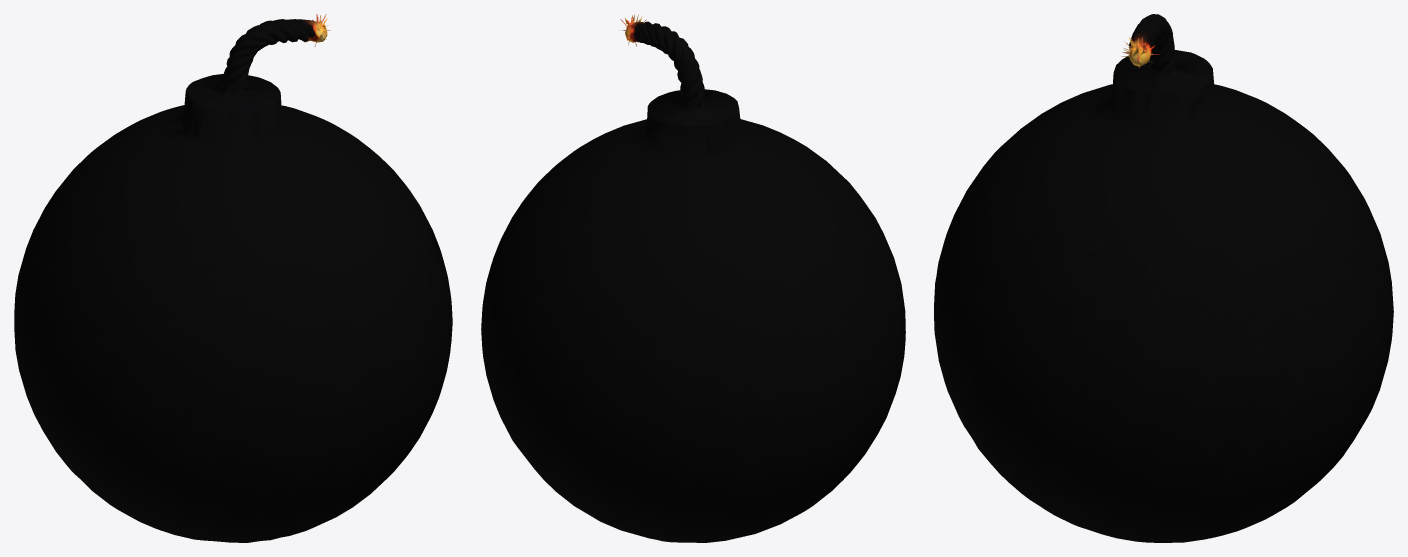
Rendered from bomb.glb.
3 renders of one model, left to right at view 1: azimuth 30°, elevation 25°; view 2: azimuth 150°, elevation 25°; view 3: azimuth 270°, elevation 25°, orthographic. The views are drawn at different scales.
Visible parts, largest first — view 1: material; view 2: material; view 3: material.
Boxes of the visible parts, left/top/right/bottom form: material: left=14, top=14, right=452, bottom=542; material: left=481, top=14, right=905, bottom=542; material: left=934, top=14, right=1393, bottom=542.
Size of the model in its own units: 0.9086 by 1.14 by 0.9085.
1 material, 1 textured.
